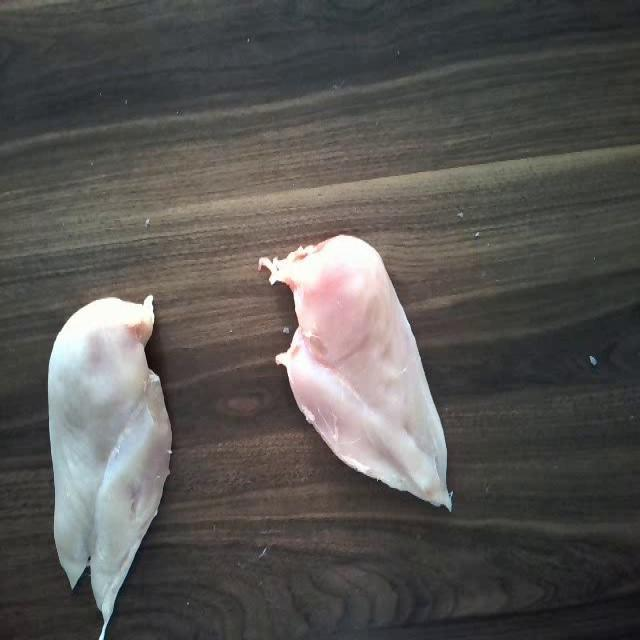breast: (277, 220, 453, 512), (47, 290, 170, 614)
